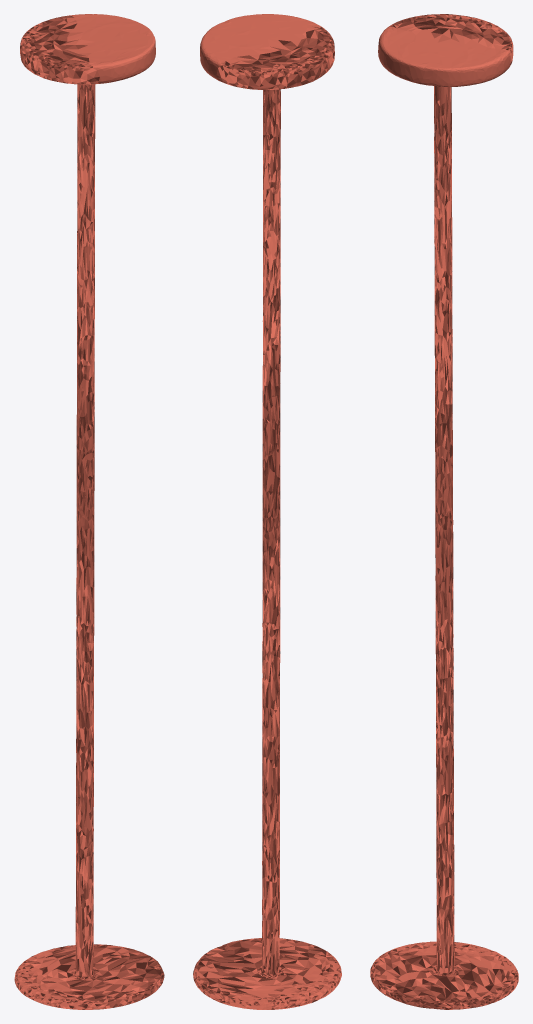
File: hum_05_pole_carry_props.glb
The picture shows the model from 3 angles, left to right: view 1: azimuth 30°, elevation 25°; view 2: azimuth 150°, elevation 25°; view 3: azimuth 270°, elevation 25°; orthographic projection.
Parts seen in each view (by area): view 1: o00; view 2: o00; view 3: o00.
Boxes of the visible parts, x1,y1,x2,y2 form: o00: (14, 14, 164, 1009); o00: (193, 14, 341, 1009); o00: (370, 14, 518, 1009).
Size of the model in its own units: 0.2532 by 1.76 by 0.252.
